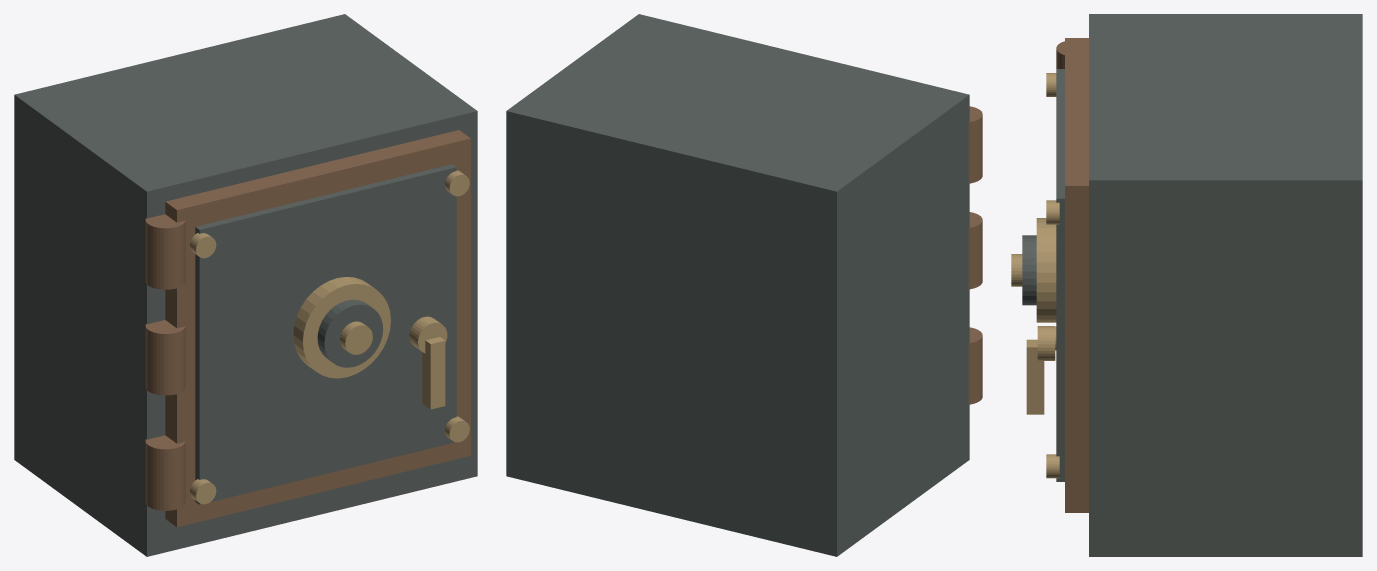
File: office-safe.glb
3 renders of one model, left to right at view 1: azimuth 30°, elevation 25°; view 2: azimuth 150°, elevation 25°; view 3: azimuth 270°, elevation 25°, orthographic. The views are drawn at different scales.
Parts seen in each view (by area): view 1: 保险柜主体, 门内面板, 保险柜门, 密码盘底, 门铰链.001, 门铰链.002, 门铰链, 密码盘, 把手, 密码盘中心, 把手底座; view 2: 保险柜主体, 门铰链, 门铰链.002, 门铰链.001; view 3: 保险柜主体, 保险柜门, 门内面板, 密码盘底, 把手, 密码盘, 把手底座.
Part boxes in pixels (x1=…): 保险柜主体: x1=14, y1=14, x2=477, y2=556; 门内面板: x1=195, y1=164, x2=456, y2=504; 保险柜门: x1=165, y1=130, x2=470, y2=527; 密码盘底: x1=293, y1=277, x2=390, y2=378; 门铰链.001: x1=145, y1=320, x2=185, y2=395; 门铰链.002: x1=145, y1=214, x2=185, y2=289; 门铰链: x1=145, y1=435, x2=185, y2=510; 密码盘: x1=317, y1=299, x2=383, y2=367; 把手: x1=422, y1=337, x2=445, y2=409; 密码盘中心: x1=340, y1=321, x2=372, y2=354; 把手底座: x1=409, y1=316, x2=447, y2=353; 保险柜主体: x1=506, y1=14, x2=969, y2=556; 门铰链: x1=968, y1=327, x2=982, y2=404; 门铰链.002: x1=968, y1=106, x2=982, y2=183; 门铰链.001: x1=968, y1=212, x2=982, y2=289; 保险柜主体: x1=1089, y1=14, x2=1362, y2=556; 保险柜门: x1=1065, y1=38, x2=1088, y2=512; 门内面板: x1=1056, y1=69, x2=1064, y2=481; 密码盘底: x1=1036, y1=218, x2=1056, y2=322; 把手: x1=1026, y1=339, x2=1044, y2=414; 密码盘: x1=1022, y1=235, x2=1036, y2=305; 把手底座: x1=1037, y1=326, x2=1055, y2=360.
Bounding box in the file's own units: 1.82 × 1.9 × 1.6.
